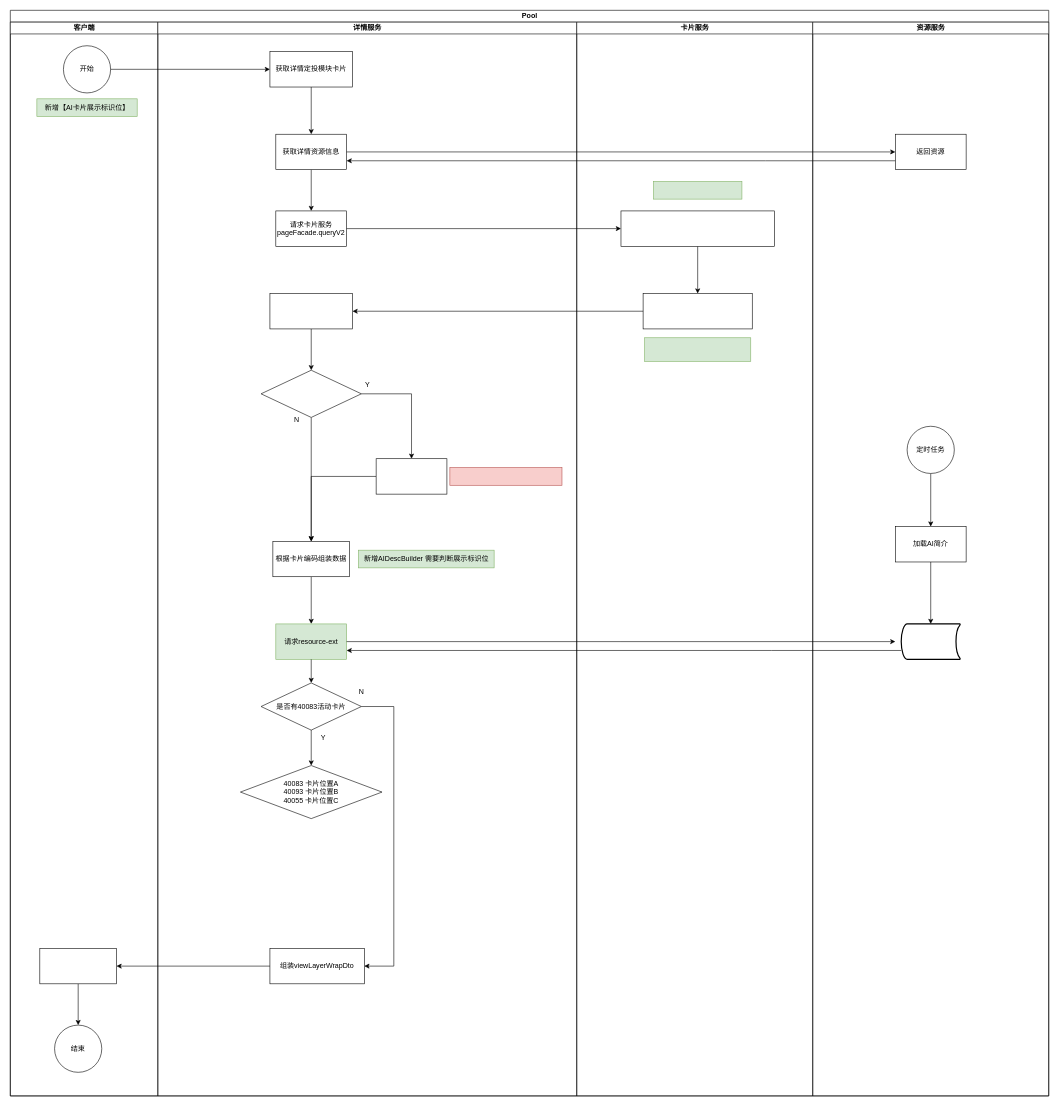
Some shapes in this 1059 by 1106 pixel diagram are drawn without their labels. The centre of each missing label's shape, as x and y in pixels:
DTO == null？: the point at 310,393
pageRequest封装详情页卡片编码: the point at 697,311
从配置中心获取兜底卡片编码列表: the point at 411,476
接收viewLayerWrapDto: the point at 311,311
新增 AI 简介卡片 40093: the point at 697,190
本地缓存: the point at 930,641
根据用户是否安装该应用，展示相应AI简介: the point at 78,966
添加详情兜底卡片配置 40093？: the point at 505,476
添加详情推荐卡片配置 40093 绕开 常规 过滤卡片逻辑: the point at 697,349
获取详情底部推荐卡片配置列表PageCache: the point at 697,228
